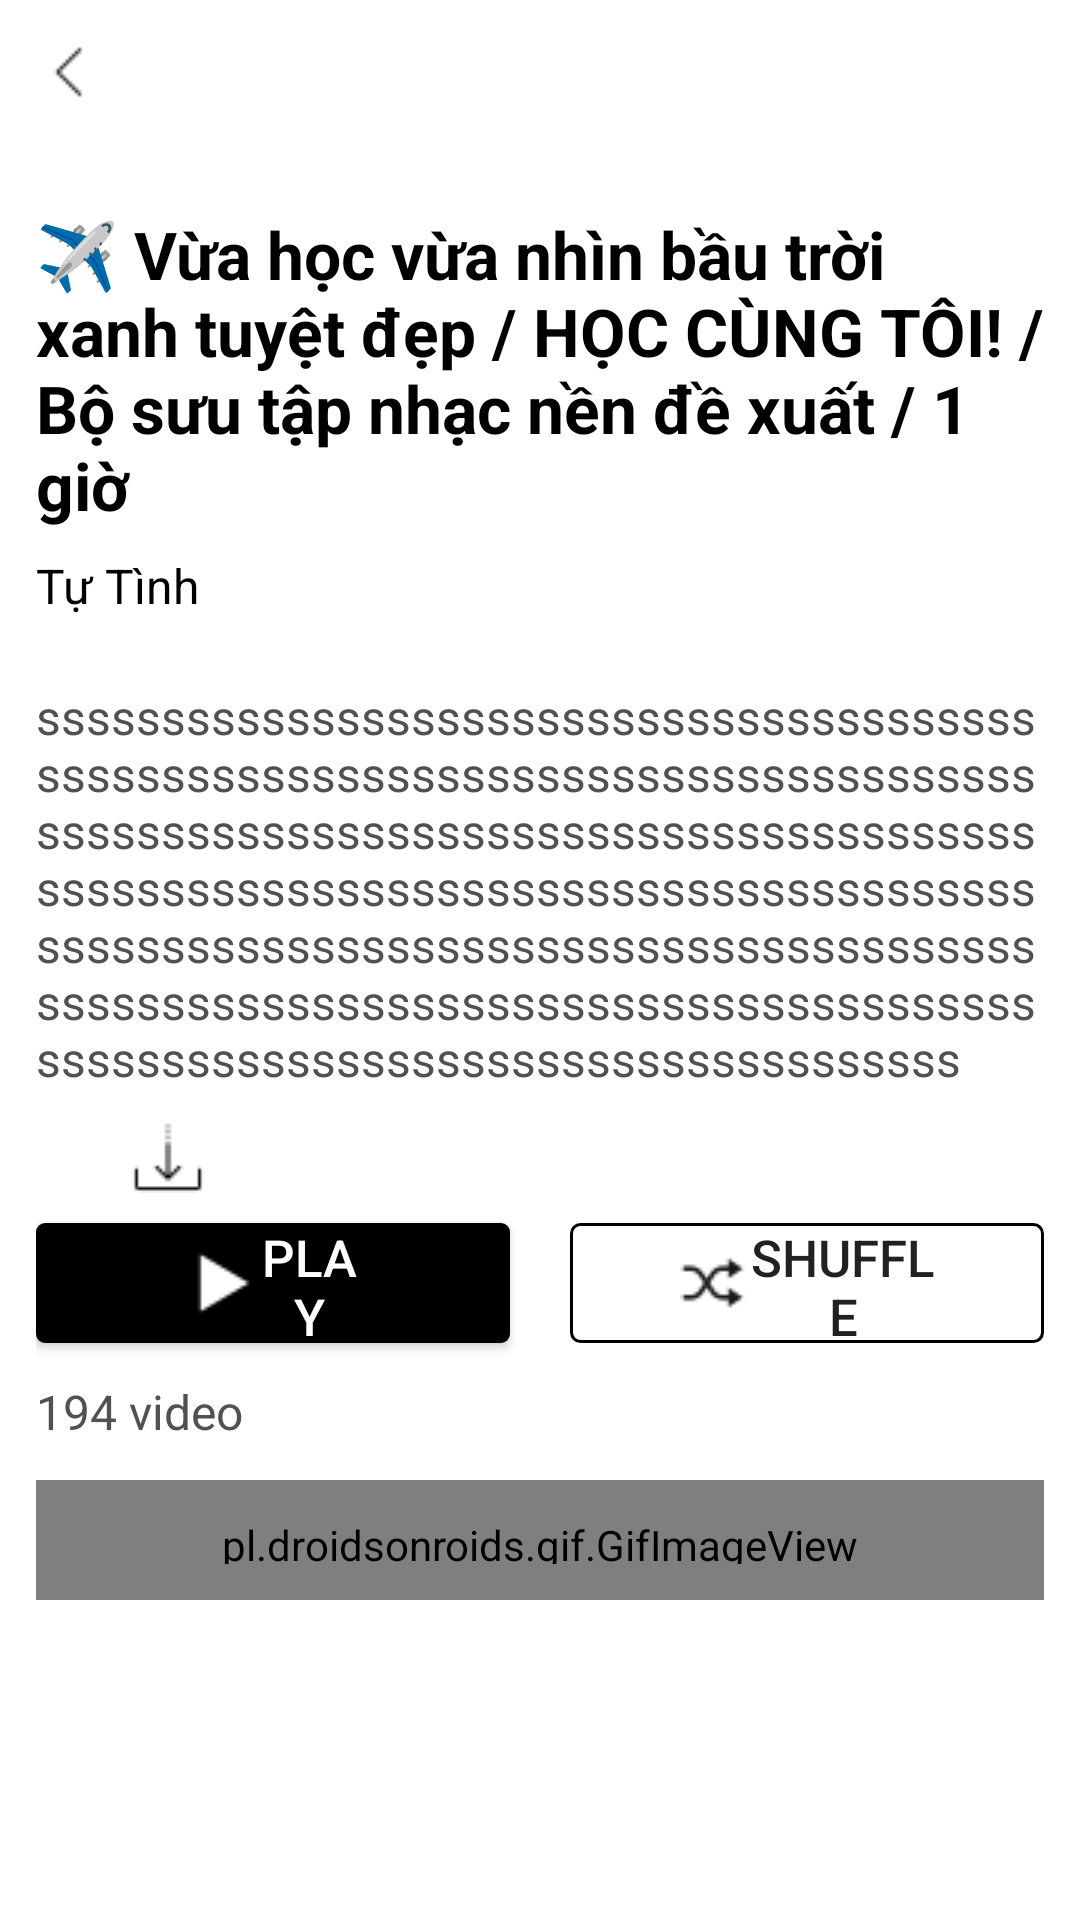

Screen size 1080*1920. Icon name, then its box in pixels as (x1, y1, x2, y2):
back left: (55, 47, 82, 97)
download: (134, 1124, 202, 1191)
